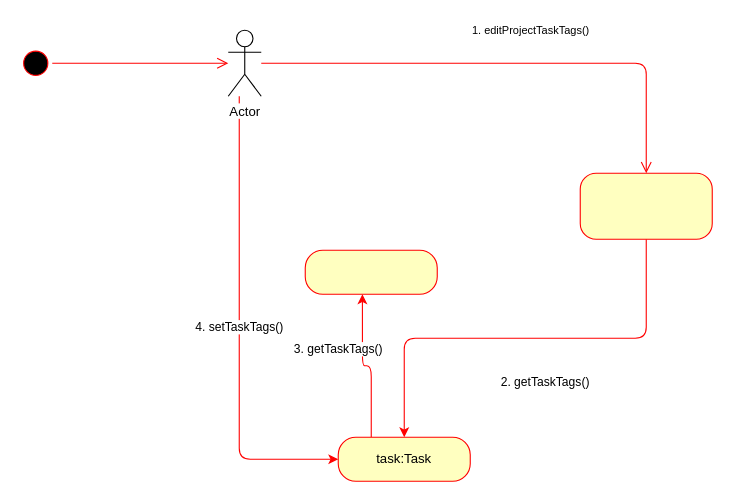
Some shapes in this 732 by 501 pixel diagram are drawn without their labels. The box of each missing label's shape, as (x1, y1, x2, y2) in pixels:
members:List: (304, 249, 437, 294)
project:Project: (579, 172, 712, 239)
